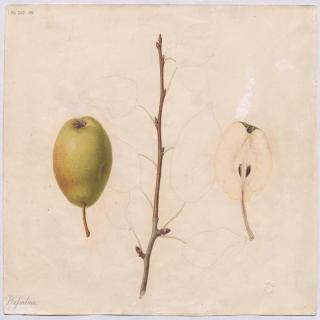Pear: (52, 116, 113, 238), (214, 121, 270, 241)
